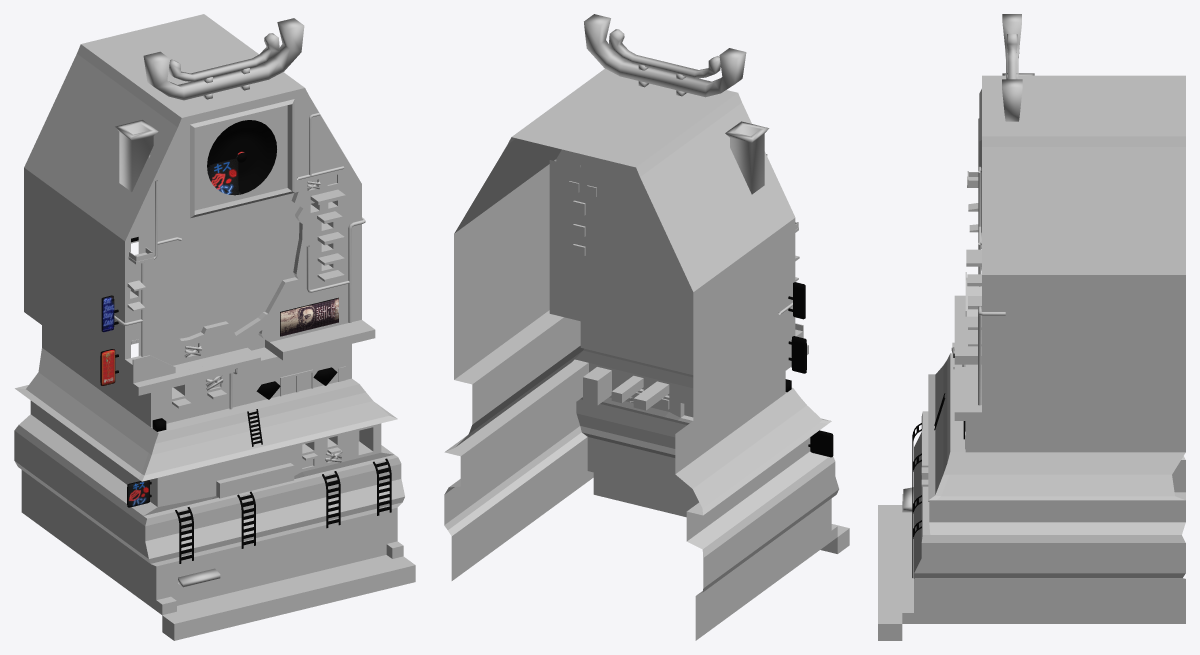
File: TowerNathan6.fbx
3 renders of one model, left to right at view 1: azimuth 30°, elevation 25°; view 2: azimuth 150°, elevation 25°; view 3: azimuth 270°, elevation 25°, orthographic.
Parts seen in each view (by area): view 1: polySurface53, polySurface52, polySurface13, polySurface42, polySurface31, polySurface33, polySurface36, polySurface32; view 2: polySurface53, polySurface52; view 3: polySurface53, polySurface63.
Part boxes in pixels (x1,y1,x2,y2): polySurface53: (14,14,415,640); polySurface52: (149,155,299,350); polySurface13: (207,120,276,195); polySurface42: (280,297,338,336); polySurface31: (322,471,340,528); polySurface33: (373,458,391,515); polySurface36: (237,491,255,548); polySurface32: (175,507,193,563); polySurface53: (444,14,849,640); polySurface52: (549,154,693,374); polySurface53: (878,14,1185,640); polySurface63: (978,306,1005,405).
Size of the model in its own units: 8.99 by 17.05 by 8.99.
